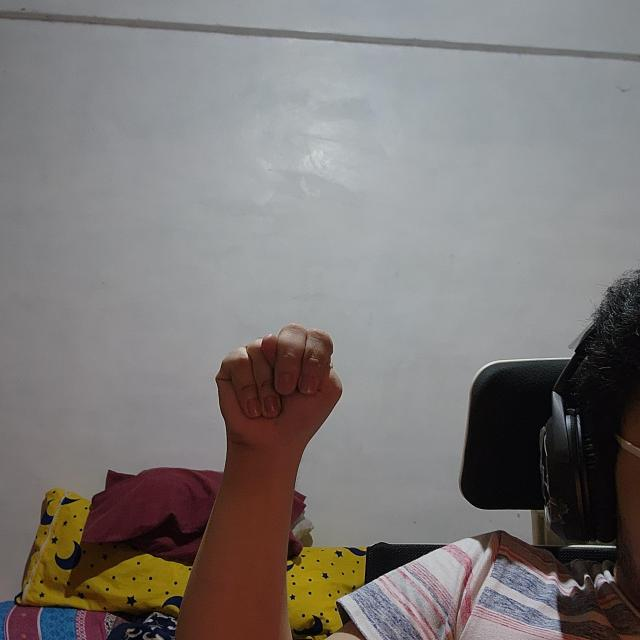N: (215, 324, 344, 459)
